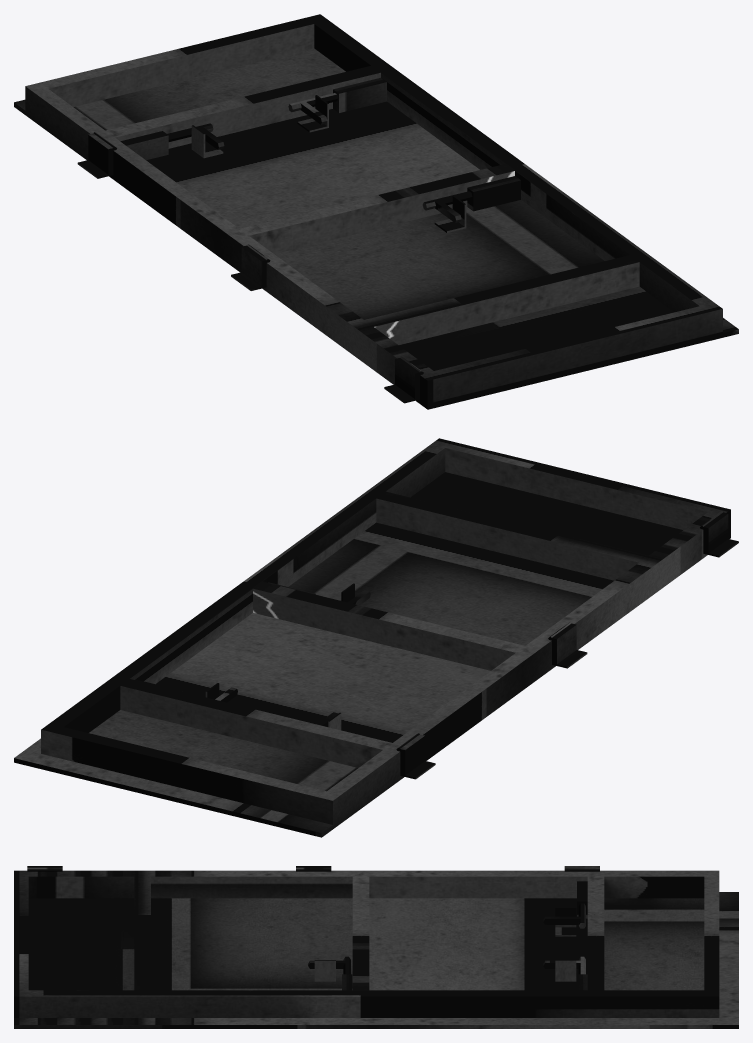
Rendered from Door1.fbx.
3 views of the same model, one above another, from view 1: azimuth 30°, elevation 25°; view 2: azimuth 150°, elevation 25°; view 3: azimuth 270°, elevation 25° (orthographic). The views are drawn at different scales.
Parts seen in each view (by area): view 1: Door01.x; view 2: Door01.x; view 3: Door01.x.
Part boxes in pixels (x1=…): Door01.x: x1=14, y1=14, x2=738, y2=409; Door01.x: x1=14, y1=438, x2=738, y2=837; Door01.x: x1=14, y1=866, x2=738, y2=1028.
Bounding box in the file's own units: 1108 × 106 × 2429.
